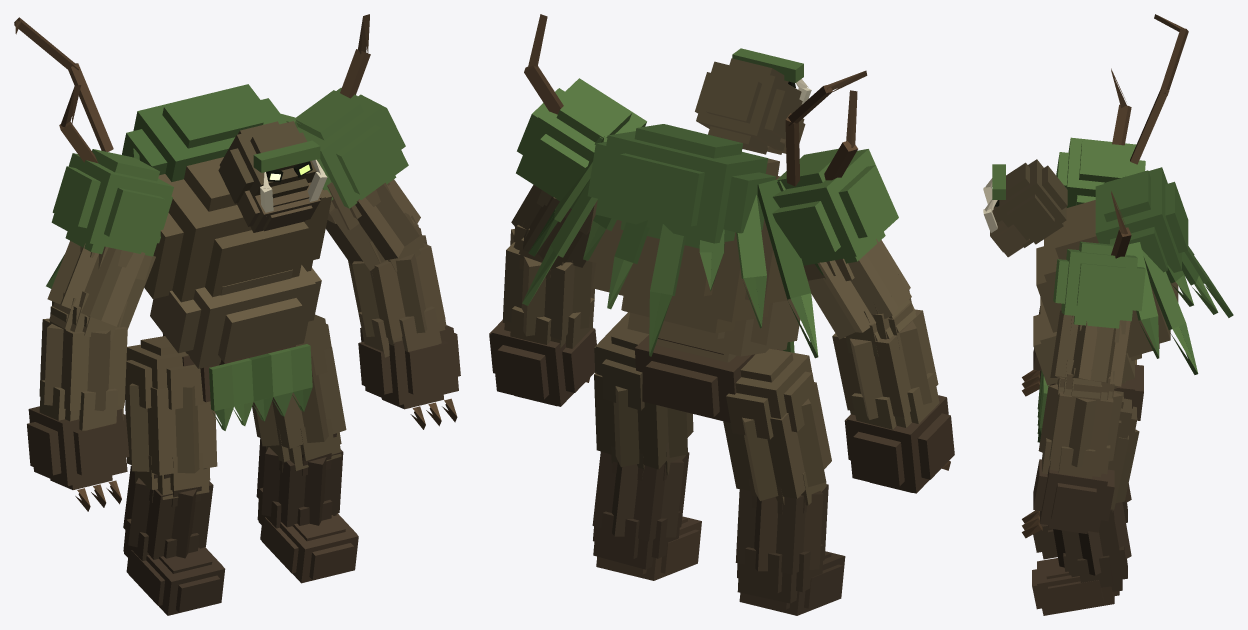
3 renders of one model, left to right at view 1: azimuth 30°, elevation 25°; view 2: azimuth 150°, elevation 25°; view 3: azimuth 270°, elevation 25°, orthographic. The views are drawn at different scales.
Parts seen in each view (by area): view 1: BogLurker; view 2: BogLurker; view 3: BogLurker.
Boxes of the visible parts, x1=… form: BogLurker: x1=14, y1=14, x2=460, y2=615; BogLurker: x1=489, y1=14, x2=954, y2=615; BogLurker: x1=983, y1=14, x2=1233, y2=615.
Size of the model in its own units: 1.16 by 1.53 by 0.7143.
